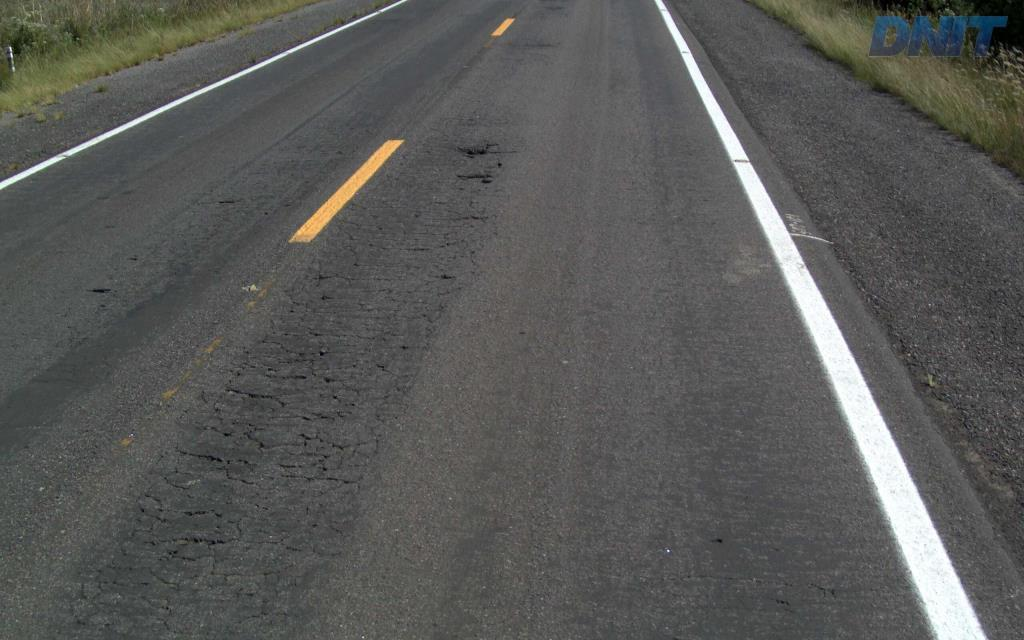crack: (175, 446, 237, 480), (143, 536, 240, 552)
